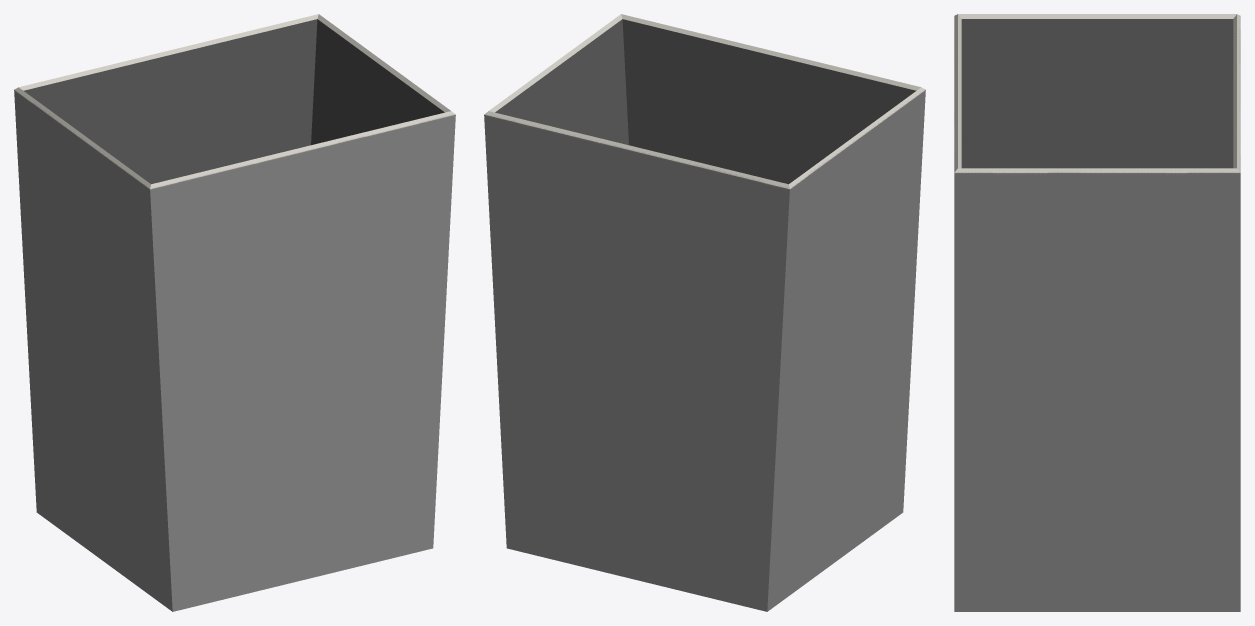
File: Trash_Bin_White.fbx
3 renders of one model, left to right at view 1: azimuth 30°, elevation 25°; view 2: azimuth 150°, elevation 25°; view 3: azimuth 270°, elevation 25°, orthographic. The views are drawn at different scales.
Parts seen in each view (by area): view 1: Cube; view 2: Cube; view 3: Cube.
Part boxes in pixels (box(x1,y1,x2,y2)): Cube: box(14, 14, 455, 611); Cube: box(484, 14, 925, 611); Cube: box(954, 14, 1240, 611).
Bounding box in the file's own units: 25.97 × 35 × 20.
